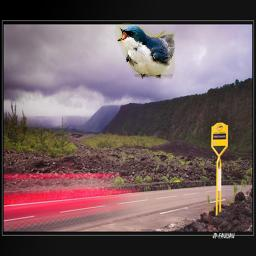Swallow: (115, 23, 175, 79)
